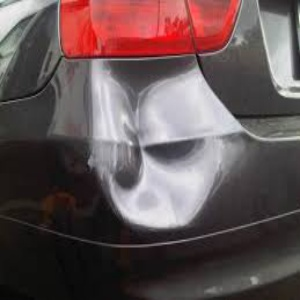bumper: (60, 72, 230, 234)
